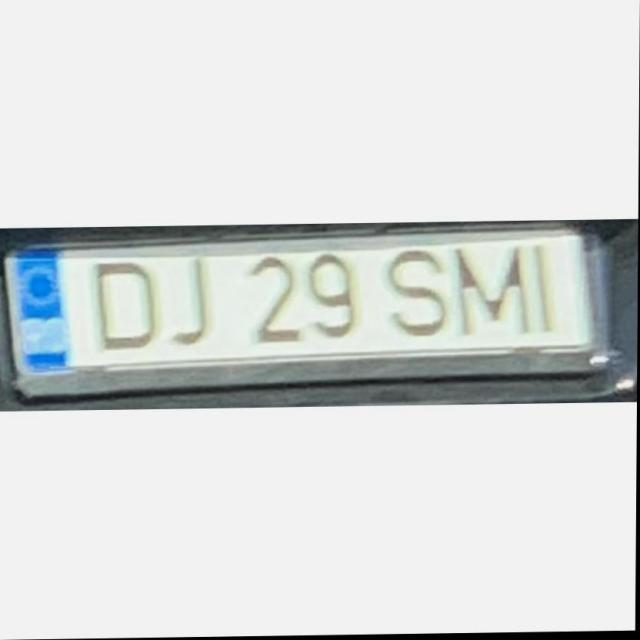license-plates: (5, 230, 611, 399)
